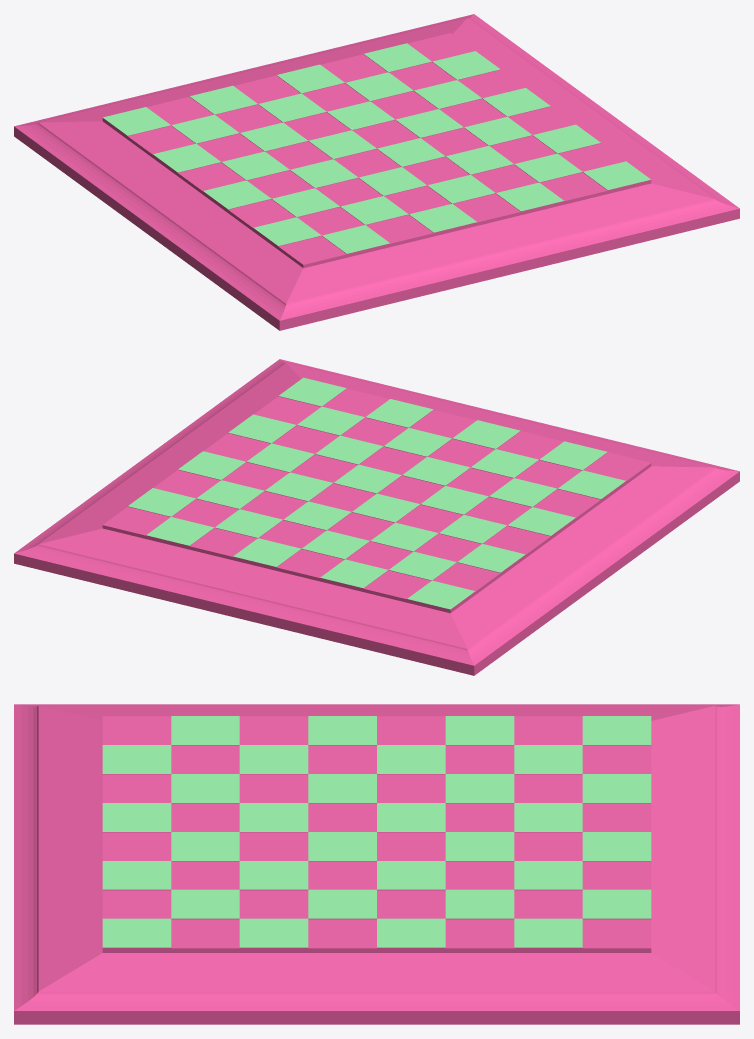
File: board.fbx
3 renders of one model, top to bottom at view 1: azimuth 30°, elevation 25°; view 2: azimuth 150°, elevation 25°; view 3: azimuth 270°, elevation 25°, orthographic. The views are drawn at different scales.
Visible parts, largest first — view 1: Chess Board; view 2: Chess Board; view 3: Chess Board.
Part boxes in pixels (bbox=[...]): Chess Board: bbox=[14, 14, 739, 330]; Chess Board: bbox=[14, 359, 739, 675]; Chess Board: bbox=[14, 704, 739, 1024].
Size of the model in its own units: 1800 by 108 by 1800.
